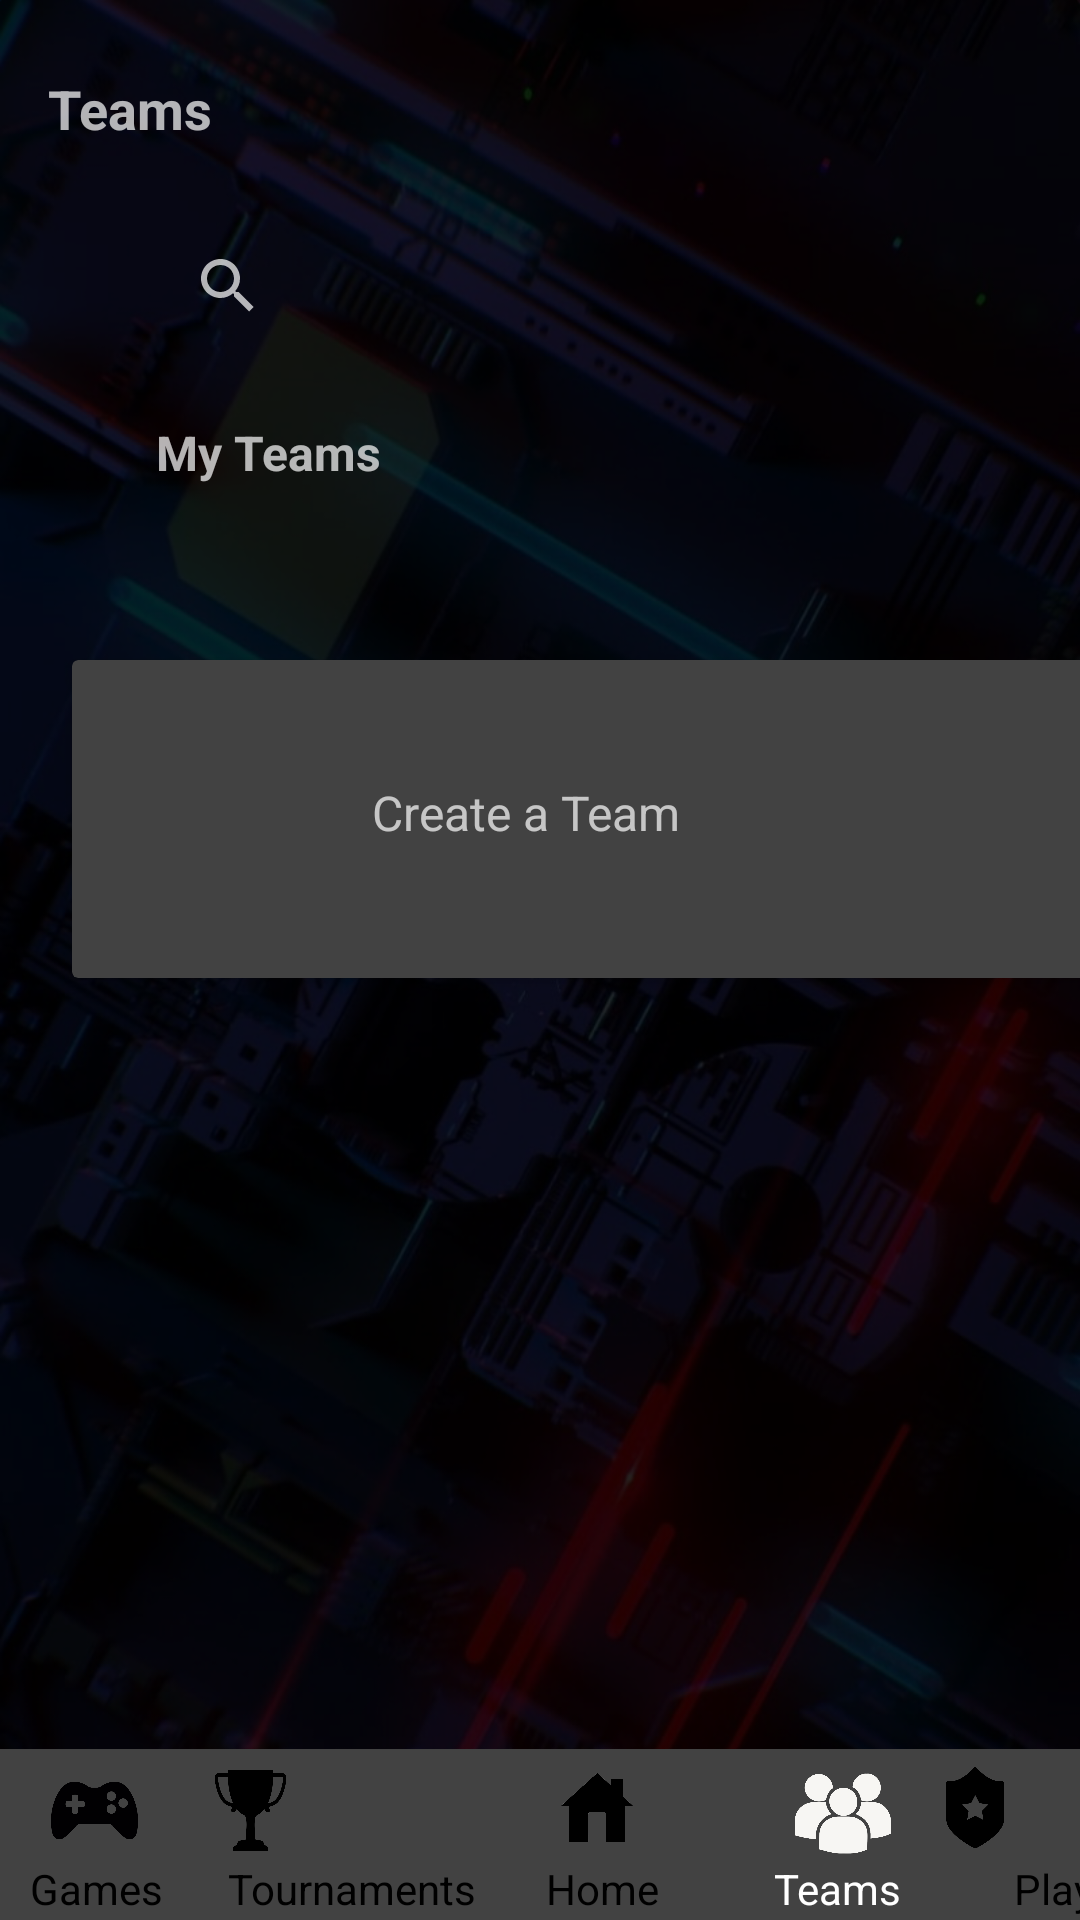

Screen size 1080 x 1920. Icon name, then its box in pixels as BBox(x1, y1, x2, y2):
console: BBox(51, 1782, 138, 1839)
cup: BBox(215, 1770, 286, 1851)
rank: BBox(946, 1767, 1004, 1848)
